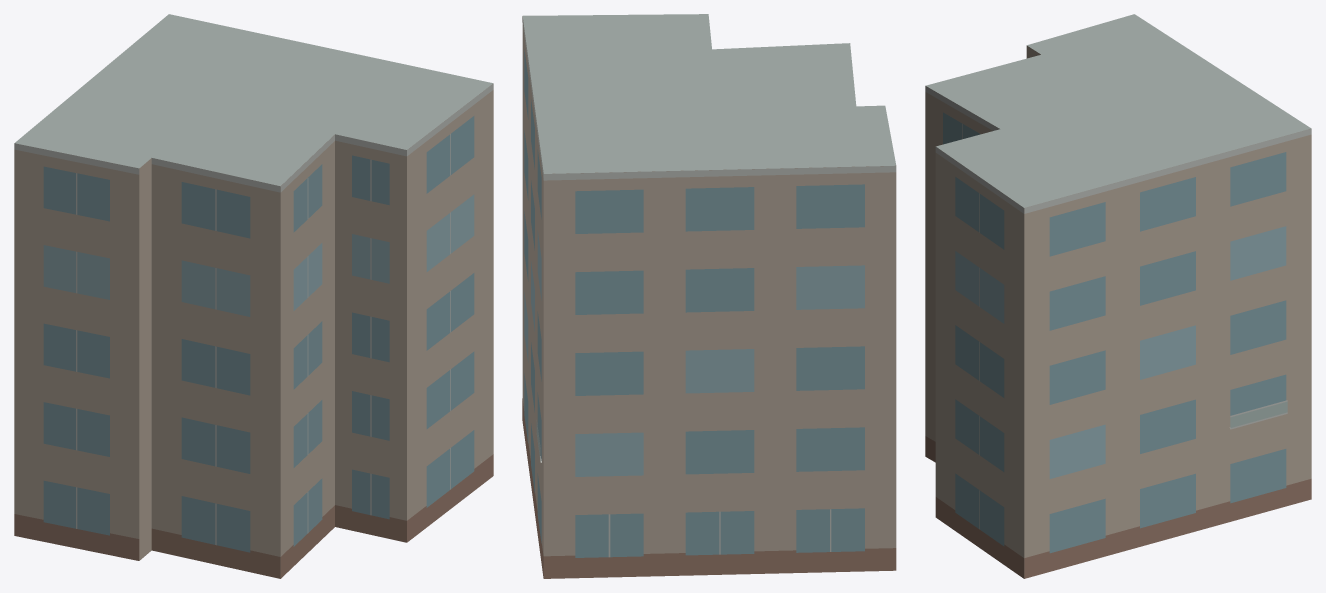
Rendered from survey-upis-32846951.glb.
The picture shows the model from 3 angles, left to right: view 1: azimuth 30°, elevation 25°; view 2: azimuth 150°, elevation 25°; view 3: azimuth 270°, elevation 25°; orthographic projection. The views are drawn at different scales.
Parts seen in each view (by area): view 1: survey-upis-32846951.tmp; view 2: survey-upis-32846951.tmp; view 3: survey-upis-32846951.tmp.
Part boxes in pixels (x1=…): survey-upis-32846951.tmp: x1=14, y1=14, x2=493, y2=578; survey-upis-32846951.tmp: x1=522, y1=14, x2=896, y2=578; survey-upis-32846951.tmp: x1=925, y1=14, x2=1311, y2=578.
Bounding box in the file's own units: 16.83 × 15 × 14.16.
